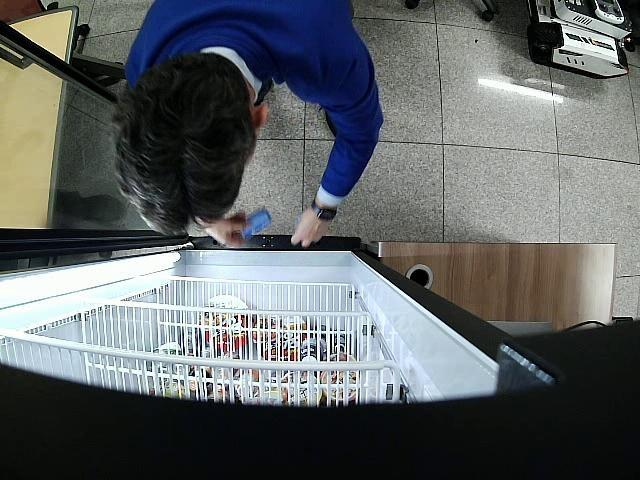15_letsbe: (240, 207, 272, 241)
